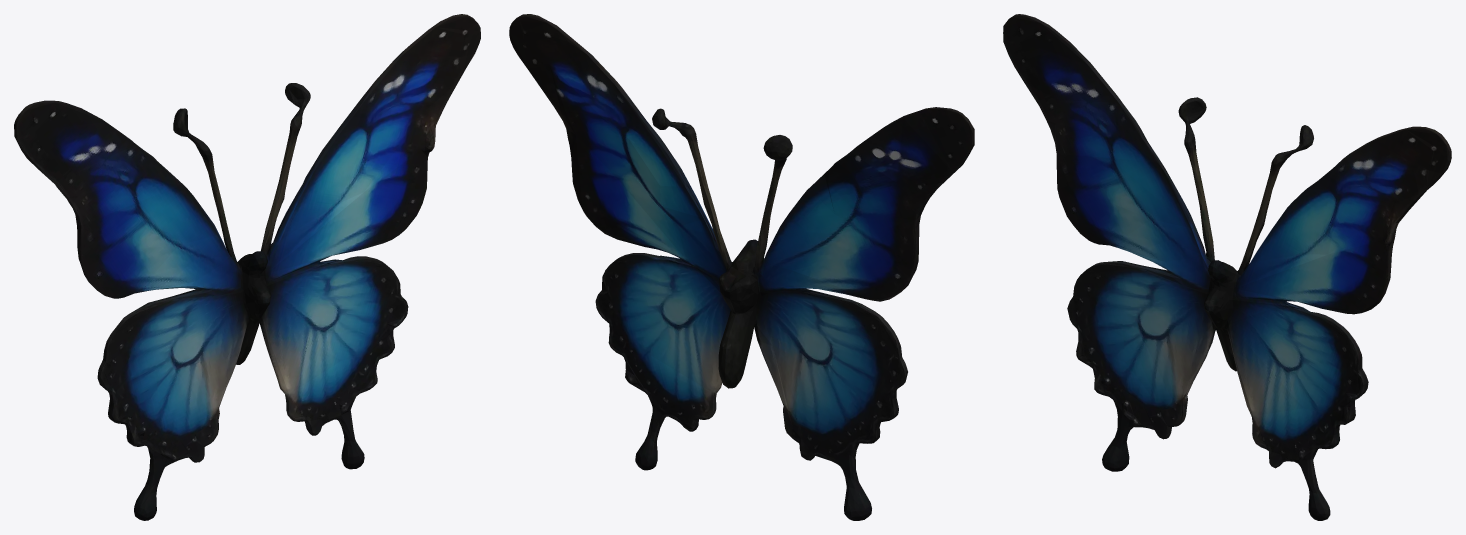
Rendered from blue-butterfly.glb.
The picture shows the model from 3 angles, left to right: view 1: azimuth 30°, elevation 25°; view 2: azimuth 150°, elevation 25°; view 3: azimuth 330°, elevation 25°; orthographic projection. The views are drawn at different scales.
Visible parts, largest first — view 1: world; view 2: world; view 3: world.
Boxes of the visible parts, x1=… form: world: x1=14, y1=14, x2=480, y2=520; world: x1=509, y1=14, x2=974, y2=520; world: x1=1003, y1=14, x2=1451, y2=520.
Bounding box in the file's own units: 1 × 0.9014 × 0.1546.
1 material, 1 textured.
